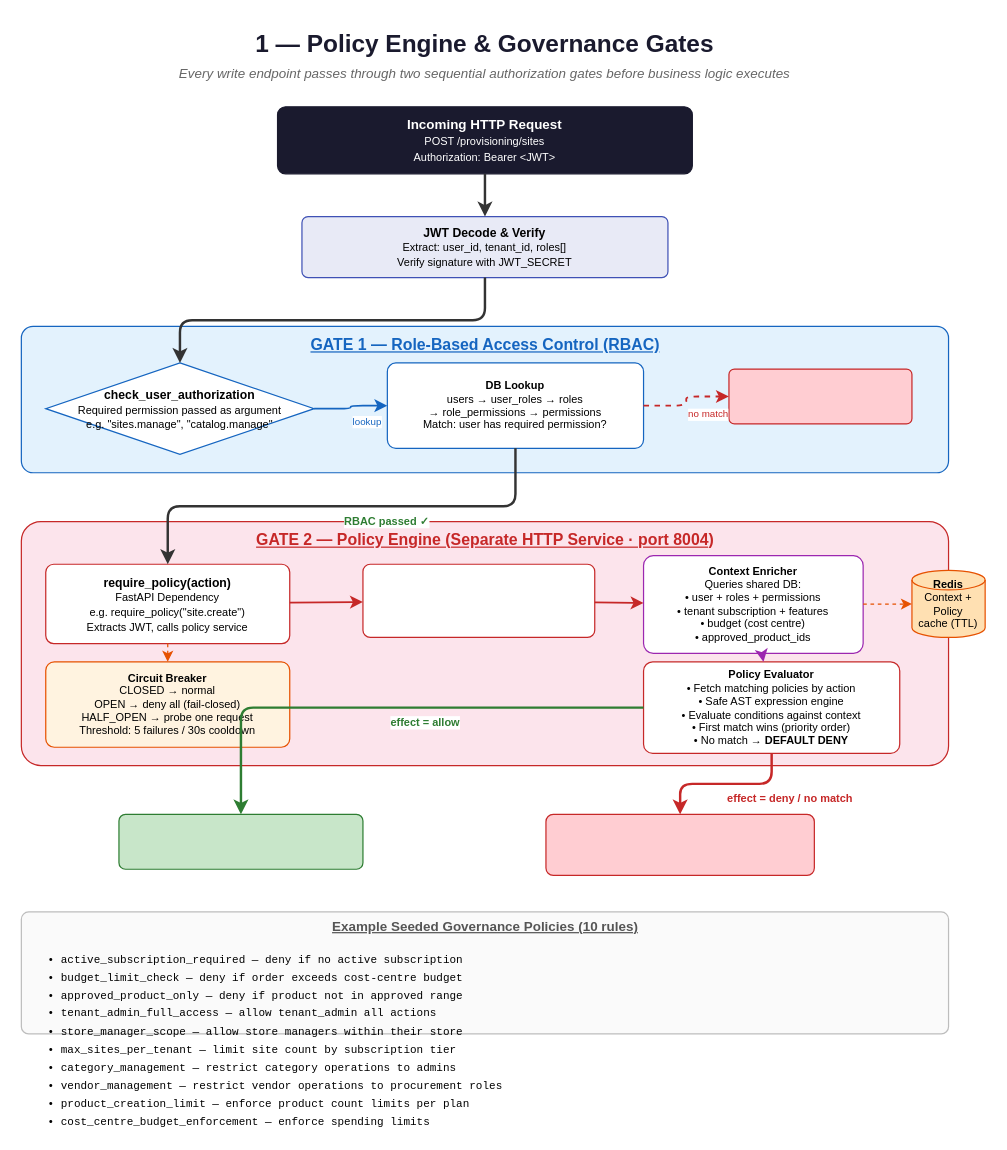
This 1007x1150 diagram has some shape labels left out. The centre of each missing label's shape, as x and y in pixels:
403 Forbidden Insufficient permissions: (x=820, y=396)
HTTP POST policy-engine:8004/evaluate {action, resource, subject} Timeout: 5s: (x=478, y=600)
✓ ALLOW Proceed to business logic: (x=240, y=841)
✗ DENY 403 — Policy violation Reason logged to decision_log: (x=679, y=844)
